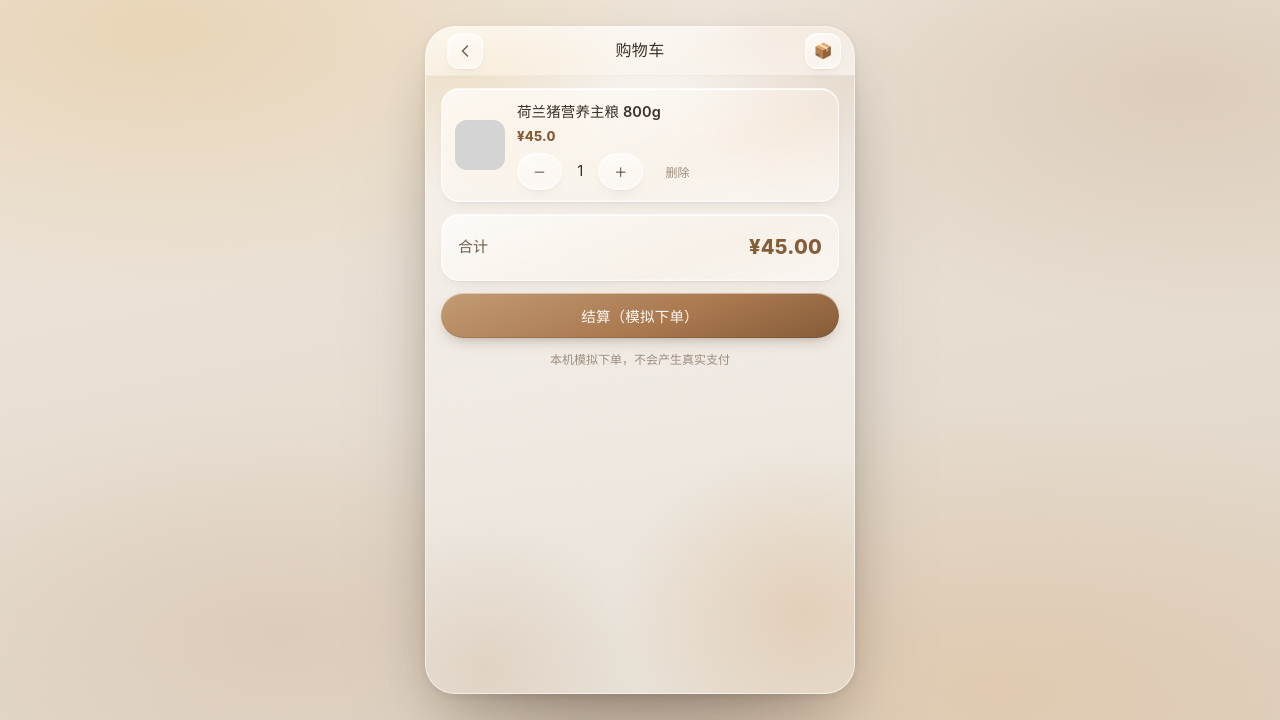
Test: 阶段2 批次H · 商城 › 地址留空下单时地址显示为「本机演示订单（未填写收货地址）」（验收 H7）
This screenshot has width=1280, height=720.
Click the button "结算（模拟下单）": (640, 316) [441, 293, 839, 338]
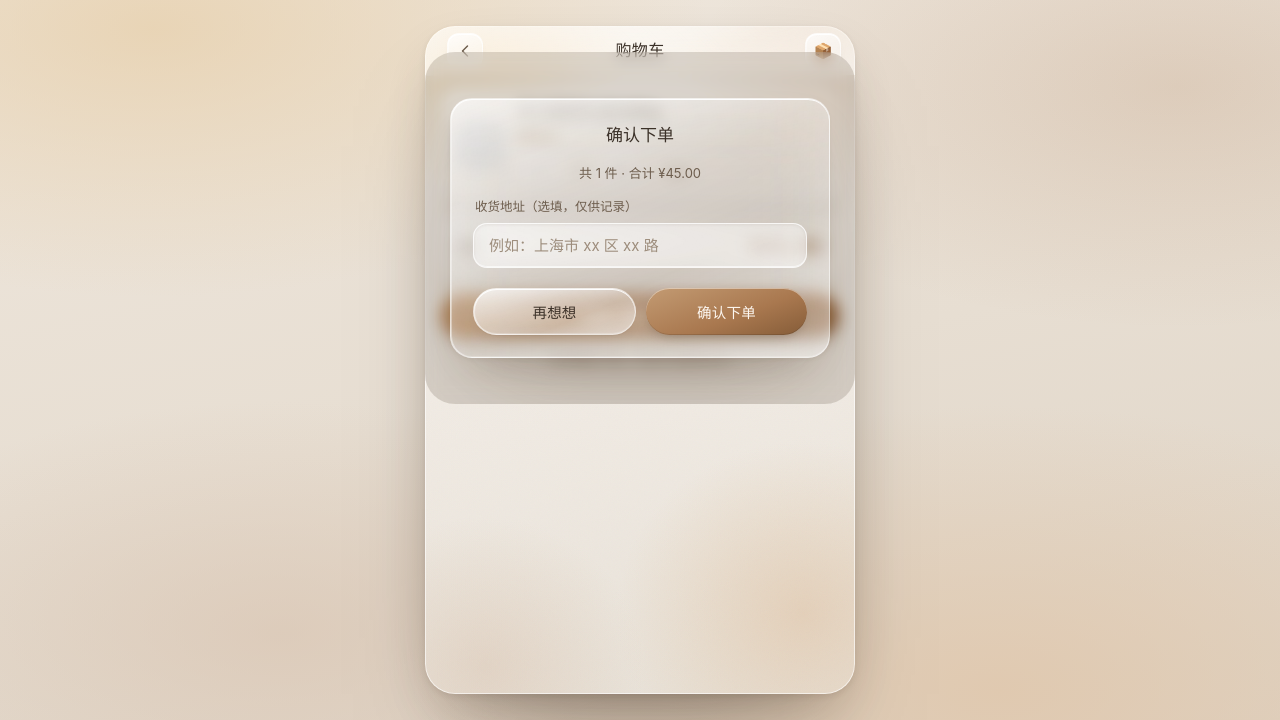
Expected: the button "确认下单" is shown
Click the button "确认下单": (726, 312) [646, 288, 807, 335]
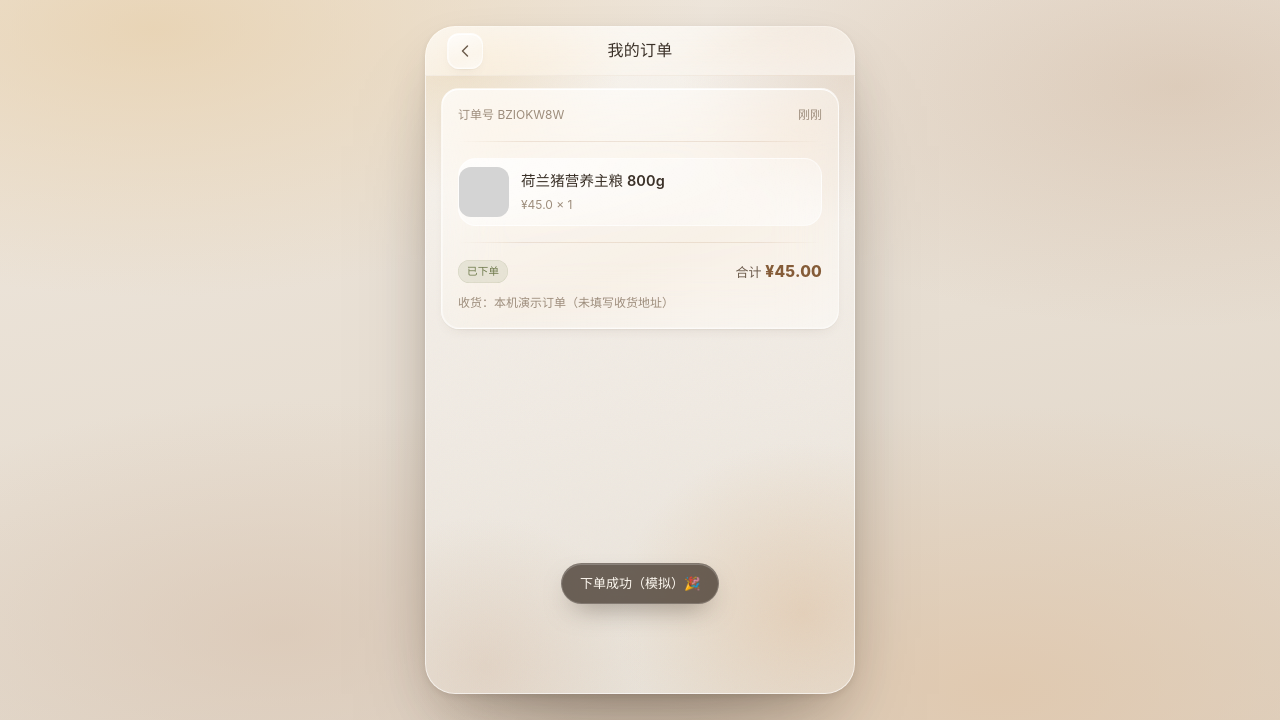
Expected: the text "已下单" is shown, [458, 260, 508, 283]
